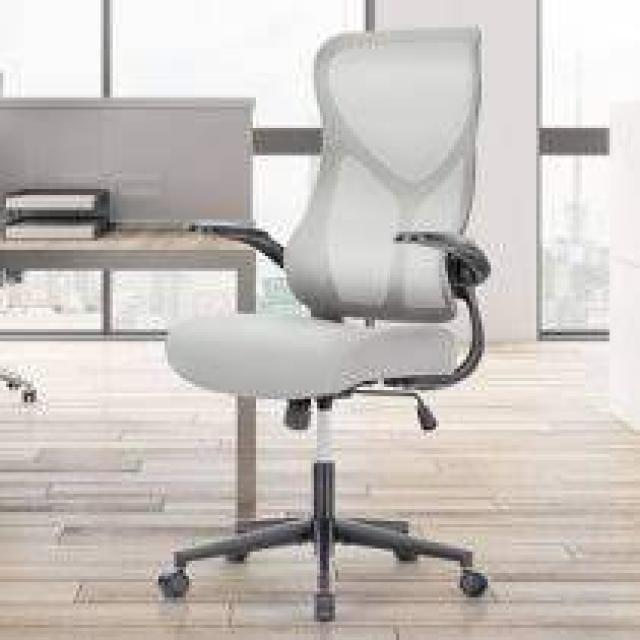chair: (116, 10, 567, 640)
